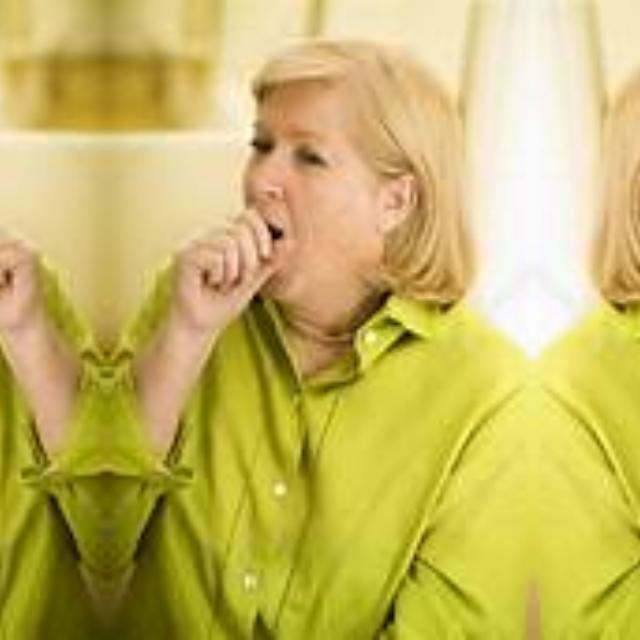person: (132, 39, 520, 623), (544, 39, 640, 623), (0, 39, 80, 623)
